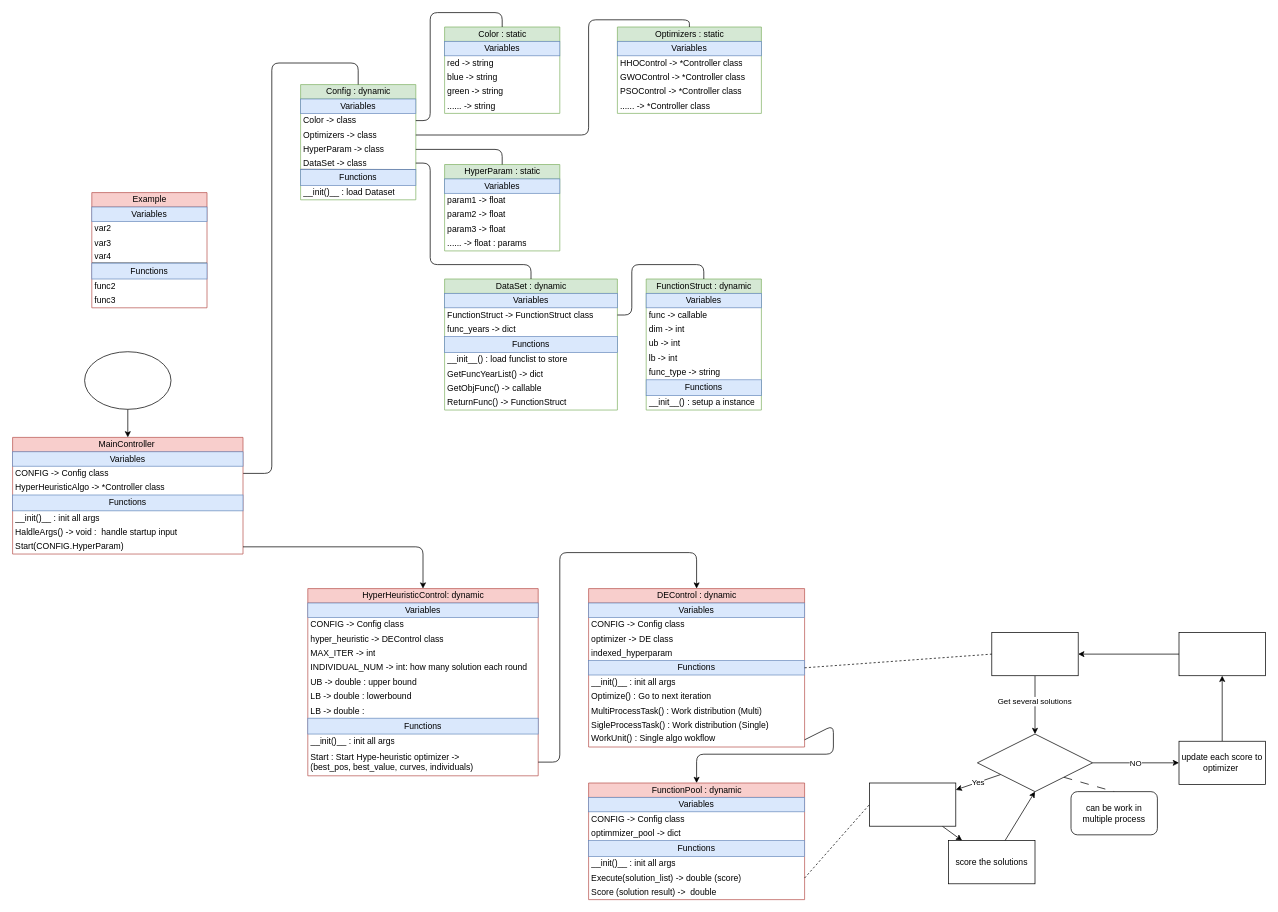
This 1278x912 diagram has some shape labels left out. The shapes that lost their labels are listed below. From the top down, each one's centre as x and y in pixels, then its label:
At point 127,380: "Start".
At point 1034,654: "Optimize (Find solution for next iteration)".
At point 1221,654: "Find the best solution".
At point 1035,762: "There're solution in list have not been test".
At point 912,804: "Execute the solution stategy on finding optimal solution in objective functions".
